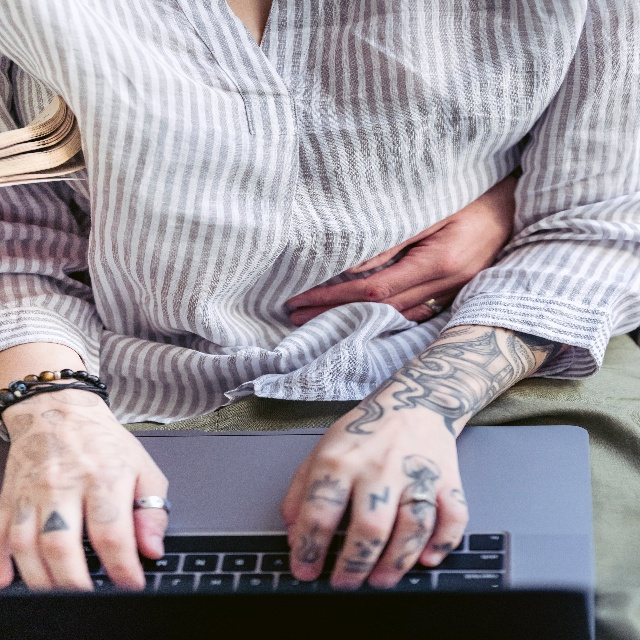Sin_guantes: (281, 387, 471, 590), (286, 170, 520, 326), (0, 387, 170, 592)
